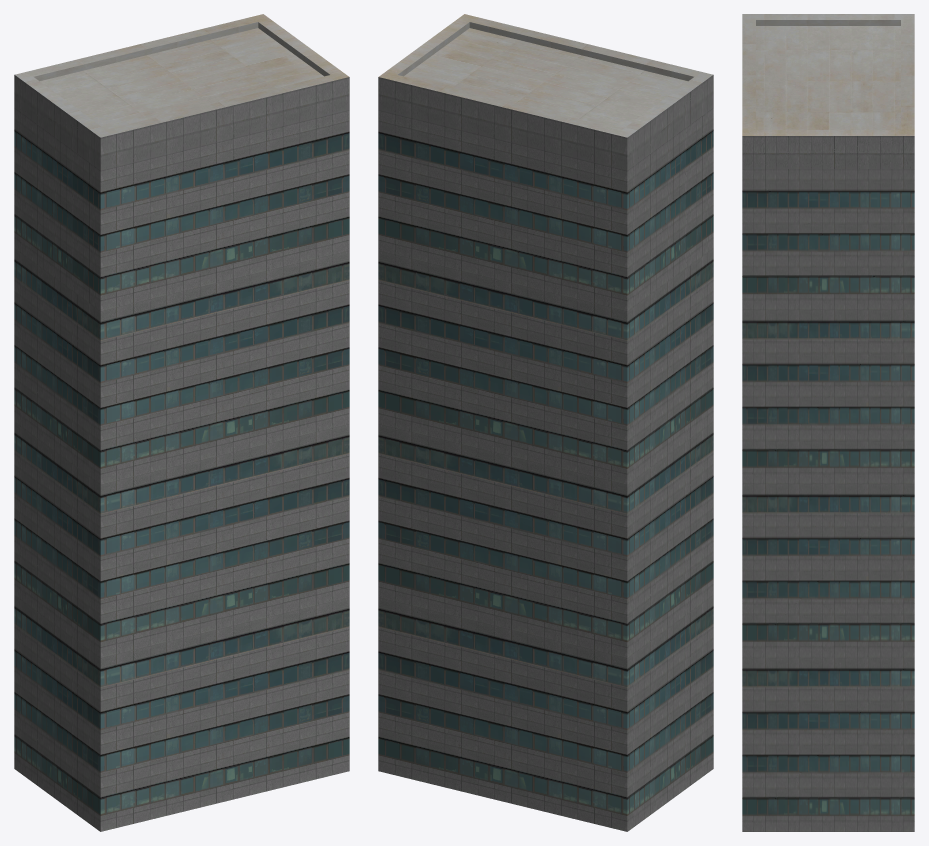
File: Hotel.fbx
3 renders of one model, left to right at view 1: azimuth 30°, elevation 25°; view 2: azimuth 150°, elevation 25°; view 3: azimuth 270°, elevation 25°, orthographic.
Visible parts, largest first — view 1: Hotel; view 2: Hotel; view 3: Hotel.
Boxes of the visible parts, box(x1,y1,x2,y2) form: Hotel: box(14, 14, 349, 831); Hotel: box(378, 14, 713, 831); Hotel: box(742, 14, 914, 831).
Bounding box in the file's own units: 11.99 × 31.95 × 7.18.
